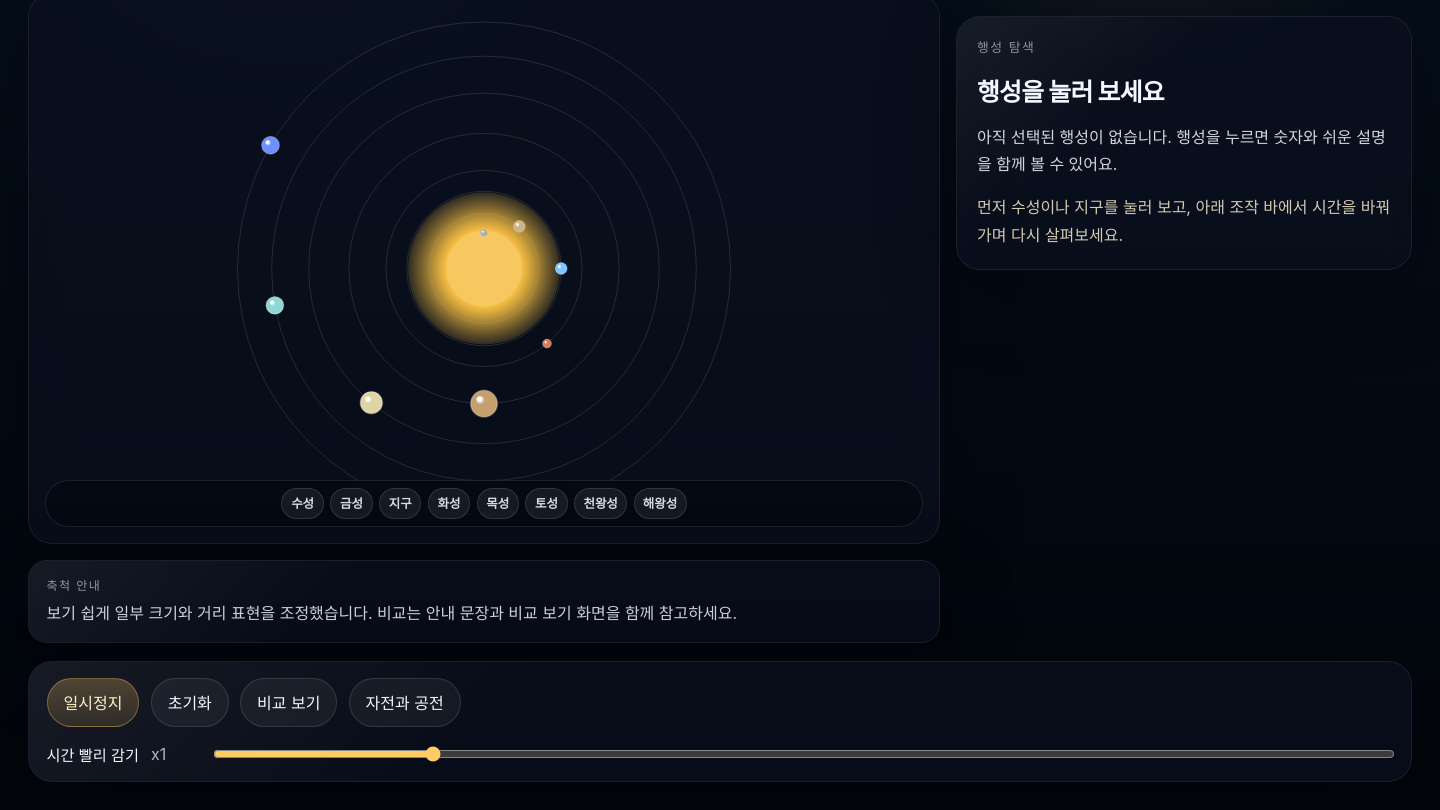
Test: 태양계 앱 셸 › opens and closes the comparison sheet from the control bar
(page scrolled)
Click the button "비교 보기": (289, 702) [240,678,337,727]
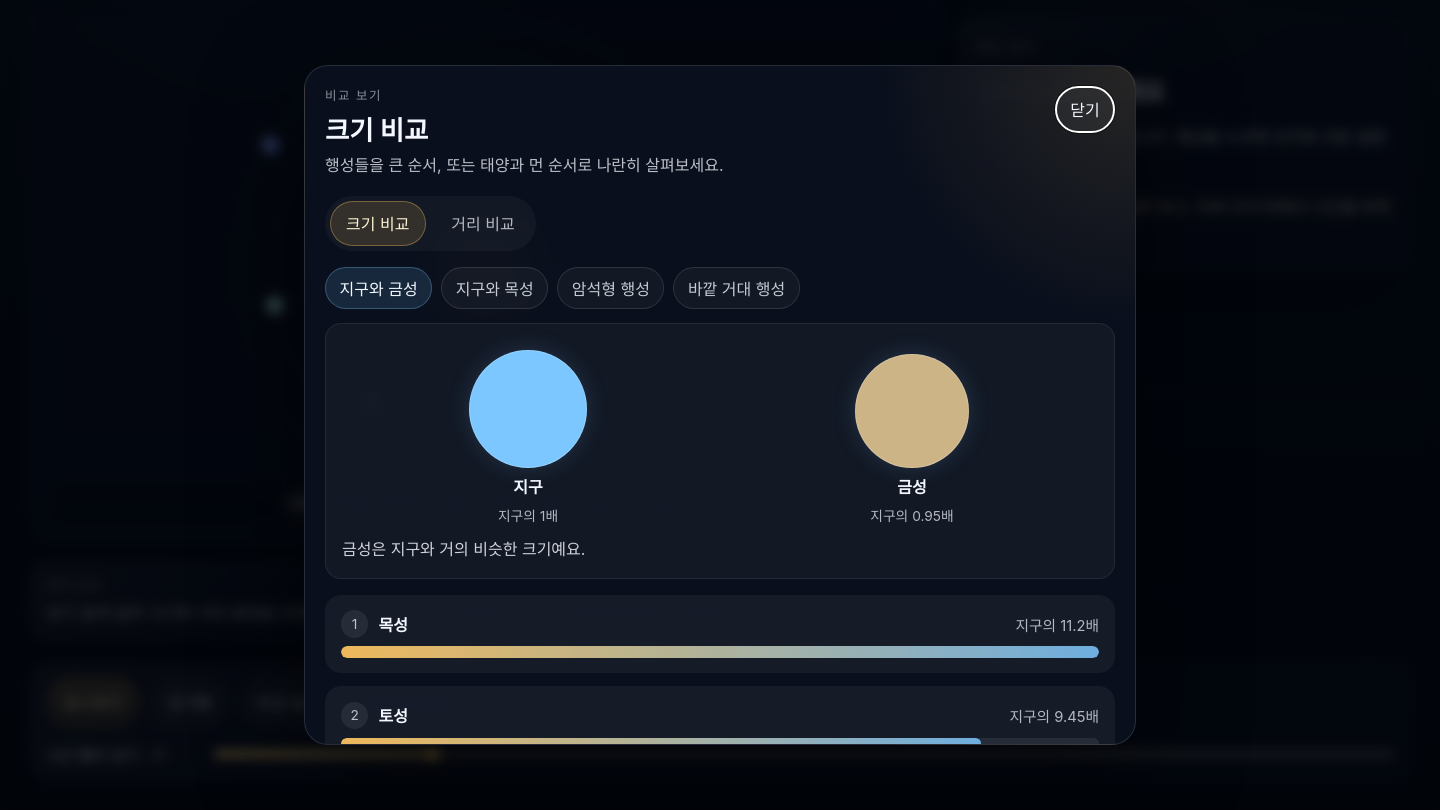
Result: the heading "크기 비교" is shown at [325,114,428,146]
Click the button "닫기": (1085, 109) [1055,86,1115,133]
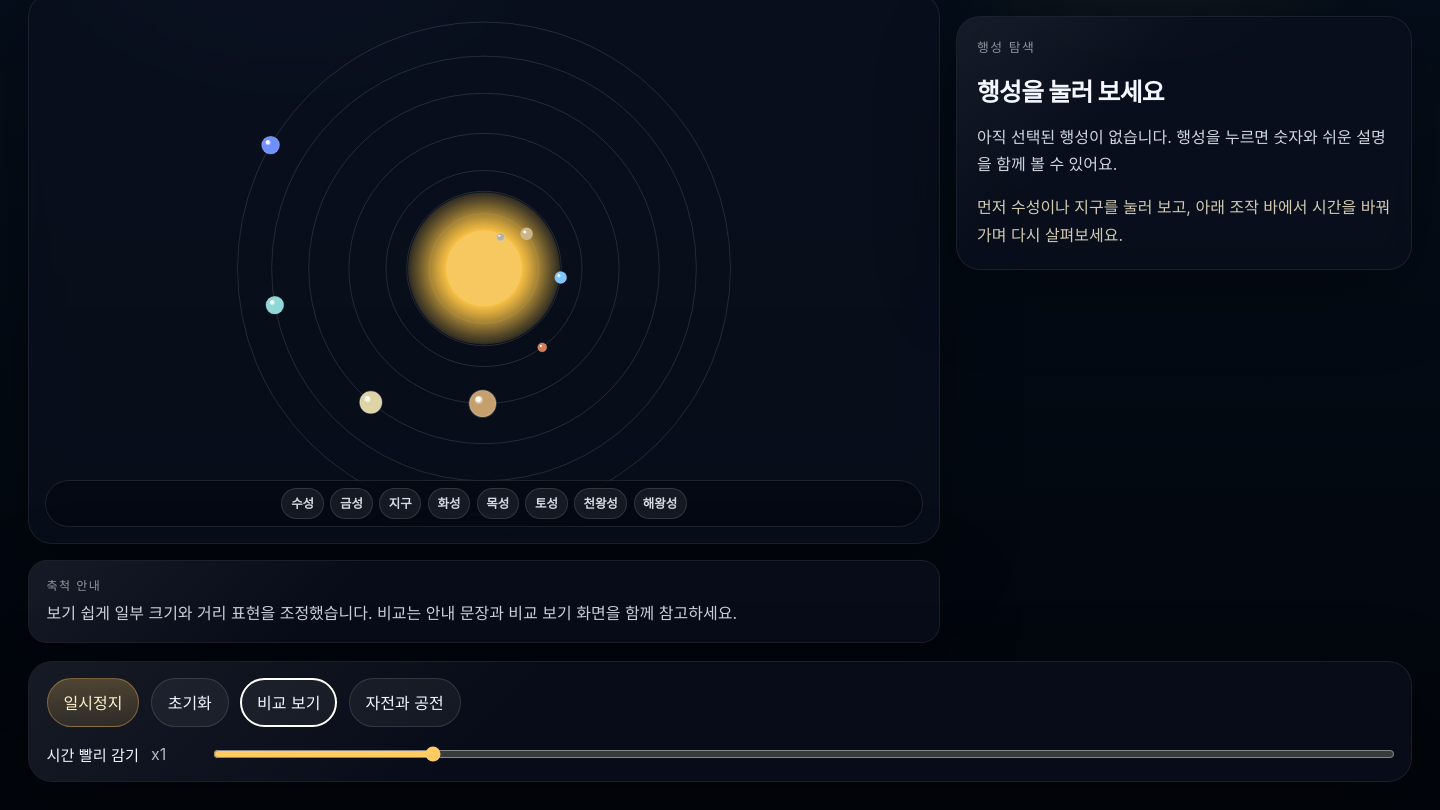
Result: the heading "크기 비교" is gone
